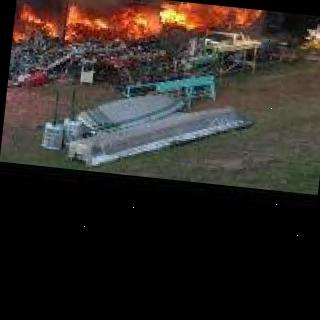fire: (61, 0, 156, 54), (161, 0, 266, 48), (18, 0, 316, 15), (11, 0, 62, 51)
